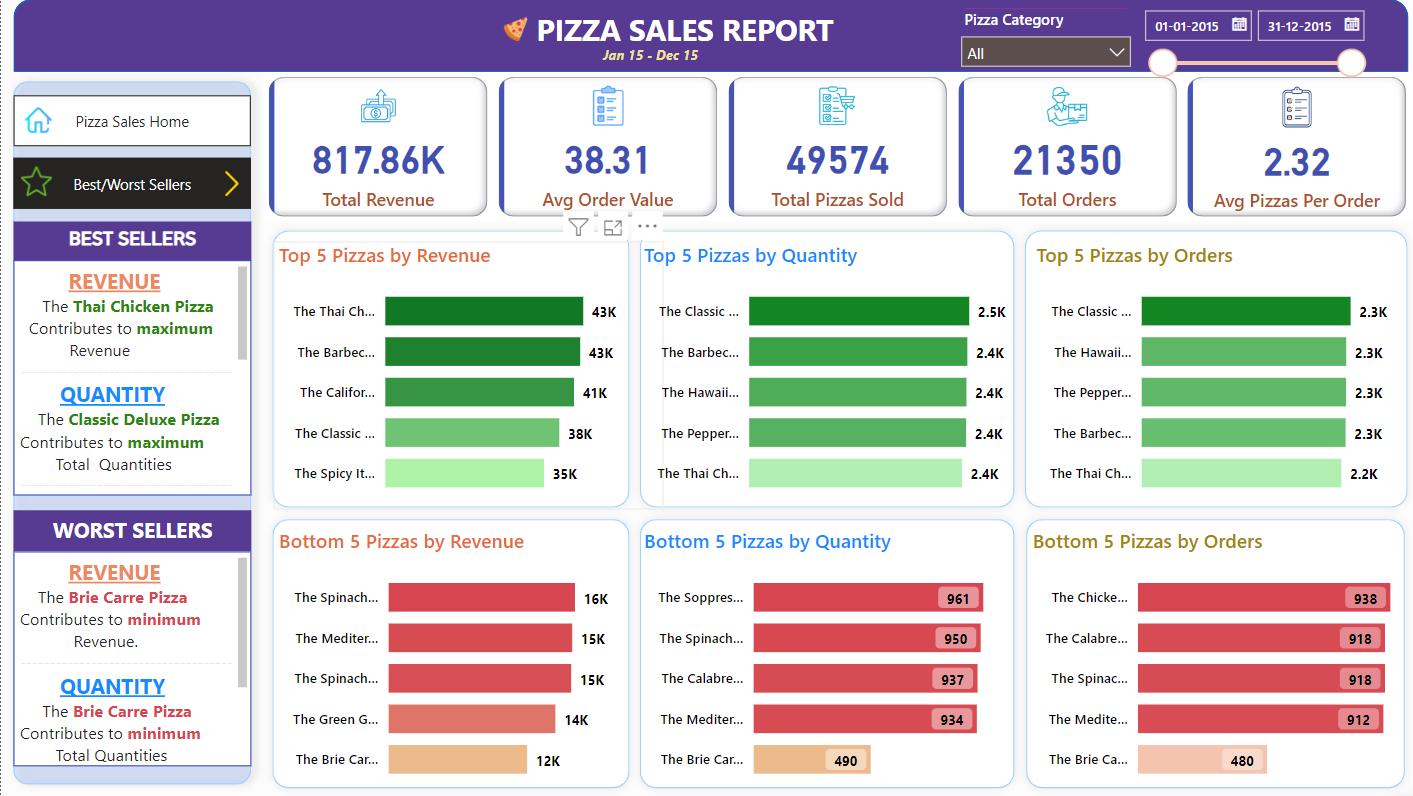

Layout of this report page (visuals, bound fields, positions):
{"tool":"powerbi","page":{"name":"Best/Worst Sellers","canvas":[1280,720],"ordinal":1},"visuals":[{"type":"shape","box":[0,63.4,236.6,656.1],"z":0},{"type":"cardVisual","fields":{"Data":["pizza_sales.Total Revenue","pizza_sales.Avg Order Value","pizza_sales.Total Pizzas Sold","pizza_sales.Total Orders","pizza_sales.Avg Pizzas Per Order"]},"box":[236.6,65.9,1039,134.1],"z":1000},{"type":"shape","box":[11,0,1257.3,65.9],"z":2000},{"type":"textbox","box":[34.6,4.2,1163,47.2],"z":3000},{"type":"textbox","box":[538,35.7,118.5,30.4],"z":4000},{"type":"image","box":[421.6,11.5,83.9,32.5],"z":5000},{"type":"shape","box":[236.6,200,337.8,265.9],"z":6000},{"type":"shape","box":[914.6,200,361,265.9],"z":7000},{"type":"shape","box":[236.6,461,337.8,258.5],"z":8000},{"type":"shape","box":[568.3,461,353.7,258.5],"z":9000},{"type":"shape","box":[915.9,461,357.3,258.5],"z":10000},{"type":"textbox","box":[11,200,214.6,35.4],"z":11000},{"type":"textbox","box":[11,235.4,214.6,212.2],"z":12000},{"type":"textbox","box":[11,461,214.6,36.6],"z":13000},{"type":"textbox","box":[11,497.6,214.6,193.9],"z":14000},{"type":"slicer","fields":{"Values":["pizza_sales.pizza_category"]},"box":[854.9,3.7,173.2,59.8],"z":15000},{"type":"slicer","fields":{"Values":["pizza_sales.order_date"]},"box":[1018.3,0,219.5,82.9],"z":16000},{"type":"shape","box":[568.3,200,353.7,265.9],"z":17000},{"type":"barChart","title":"Top 5 Pizzas by Revenue","fields":{"Category":["pizza_sales.pizza_name"],"Y":["pizza_sales.Total Revenue"]},"box":[245.1,218.3,352.4,242.7],"z":18000},{"type":"barChart","title":"Bottom 5 Pizzas by Revenue","fields":{"Category":["pizza_sales.pizza_name"],"Y":["pizza_sales.Total Revenue"]},"box":[245.1,476.8,324.4,242.7],"z":19000},{"type":"barChart","title":"Top 5 Pizzas by Quantity","fields":{"Category":["pizza_sales.pizza_name"],"Y":["pizza_sales.Total Pizzas Sold"]},"box":[574.4,218.3,347.6,242.7],"z":20000},{"type":"barChart","title":"Bottom 5 Pizzas by Quantity","fields":{"Category":["pizza_sales.pizza_name"],"Y":["pizza_sales.Total Pizzas Sold"]},"box":[574.4,476.8,324.4,242.7],"z":21000},{"type":"barChart","title":"Top 5 Pizzas by Orders","fields":{"Category":["pizza_sales.pizza_name"],"Y":["pizza_sales.Total Orders"]},"box":[928,218.3,347.6,242.7],"z":22000},{"type":"barChart","title":"Bottom 5 Pizzas by Orders","fields":{"Category":["pizza_sales.pizza_name"],"Y":["pizza_sales.Total Orders"]},"box":[925.6,476.8,347.6,242.7],"z":23000},{"type":"pageNavigator","box":[11,142.7,214.6,46.3],"z":24000},{"type":"pageNavigator","box":[11,86.6,214.6,46.3],"z":25000},{"type":"image","box":[156.1,150,103.7,32.9],"z":26000},{"type":"image","box":[17.1,92.7,34.1,34.1],"z":27000},{"type":"image","box":[12.2,145.1,39,37.8],"z":28000}]}

Visuals, with their boxes in screenshot pixels (x1, y1, x2, y2), scaled from the page's 1280x720 canvas onto the 1413x796 screenshot:
shape: bbox(0, 70, 261, 795)
cardVisual - pizza_sales.Total Revenue x pizza_sales.Avg Order Value: bbox(261, 73, 1408, 221)
shape: bbox(12, 0, 1400, 73)
textbox: bbox(38, 5, 1322, 57)
textbox: bbox(594, 39, 725, 73)
image: bbox(465, 13, 558, 49)
shape: bbox(261, 221, 634, 515)
shape: bbox(1010, 221, 1408, 515)
shape: bbox(261, 510, 634, 795)
shape: bbox(627, 510, 1018, 795)
shape: bbox(1011, 510, 1405, 795)
textbox: bbox(12, 221, 249, 260)
textbox: bbox(12, 260, 249, 495)
textbox: bbox(12, 510, 249, 550)
textbox: bbox(12, 550, 249, 764)
slicer - pizza_sales.pizza_category: bbox(944, 4, 1135, 70)
slicer - pizza_sales.order_date: bbox(1124, 0, 1366, 92)
shape: bbox(627, 221, 1018, 515)
"Top 5 Pizzas by Revenue" barChart: bbox(271, 241, 660, 510)
"Bottom 5 Pizzas by Revenue" barChart: bbox(271, 527, 629, 795)
"Top 5 Pizzas by Quantity" barChart: bbox(634, 241, 1018, 510)
"Bottom 5 Pizzas by Quantity" barChart: bbox(634, 527, 992, 795)
"Top 5 Pizzas by Orders" barChart: bbox(1024, 241, 1408, 510)
"Bottom 5 Pizzas by Orders" barChart: bbox(1022, 527, 1405, 795)
pageNavigator: bbox(12, 158, 249, 209)
pageNavigator: bbox(12, 96, 249, 147)
image: bbox(172, 166, 287, 202)
image: bbox(19, 102, 57, 140)
image: bbox(13, 160, 57, 202)
